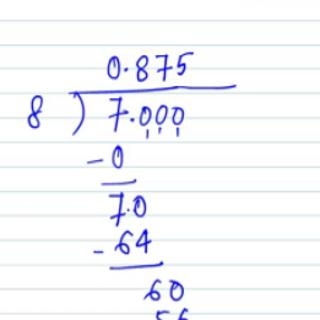.: (121, 63, 132, 73), (128, 114, 137, 126), (125, 206, 132, 216)
0: (106, 140, 127, 173), (102, 52, 124, 83), (165, 276, 186, 307), (167, 103, 188, 128), (135, 99, 153, 128), (132, 192, 149, 222), (152, 103, 170, 128)
4: (135, 225, 154, 258)
5: (172, 46, 196, 80)
6: (115, 227, 135, 260), (143, 274, 162, 305)
7: (101, 95, 129, 134), (102, 189, 125, 230), (152, 51, 174, 85)
8: (21, 93, 49, 134), (133, 49, 154, 86)
